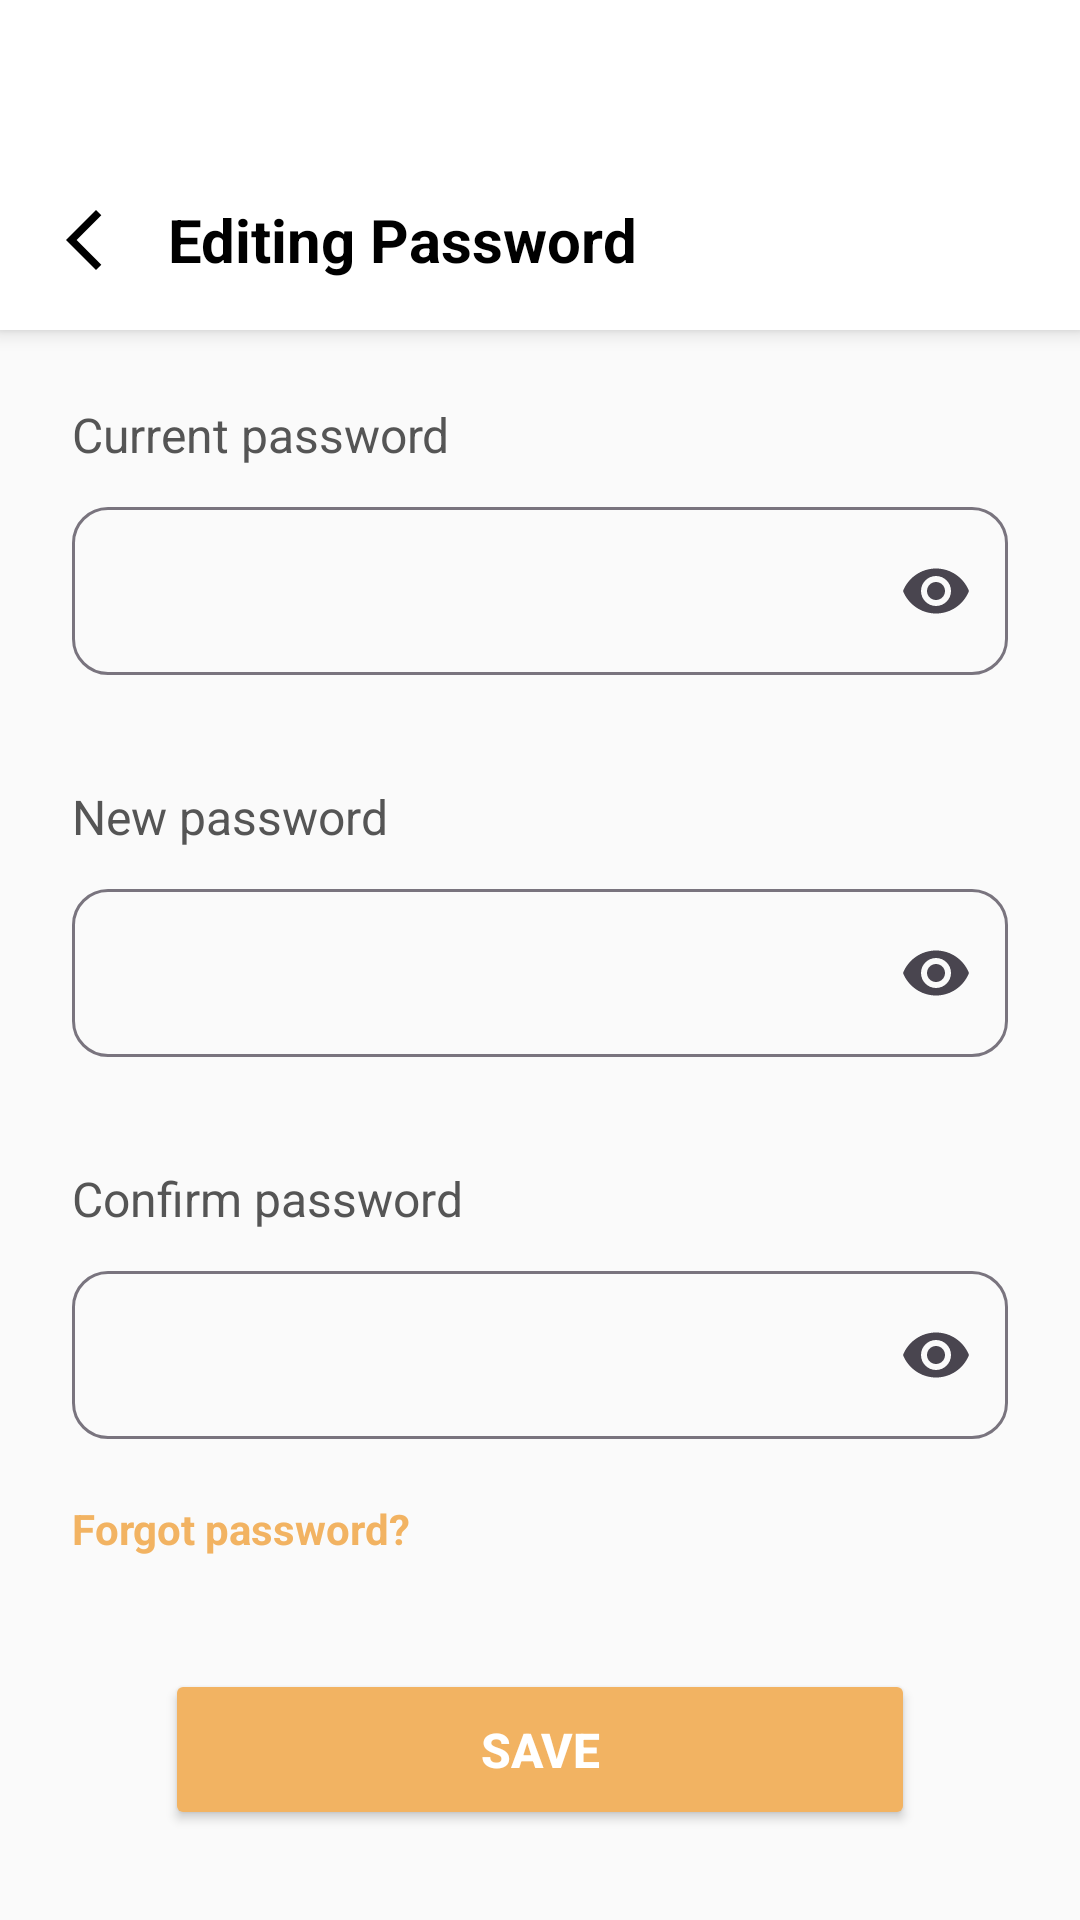

Icons on this 1080*1920 Android screen, each with the point to tap as point (x, y):
Back: point (83, 240)
